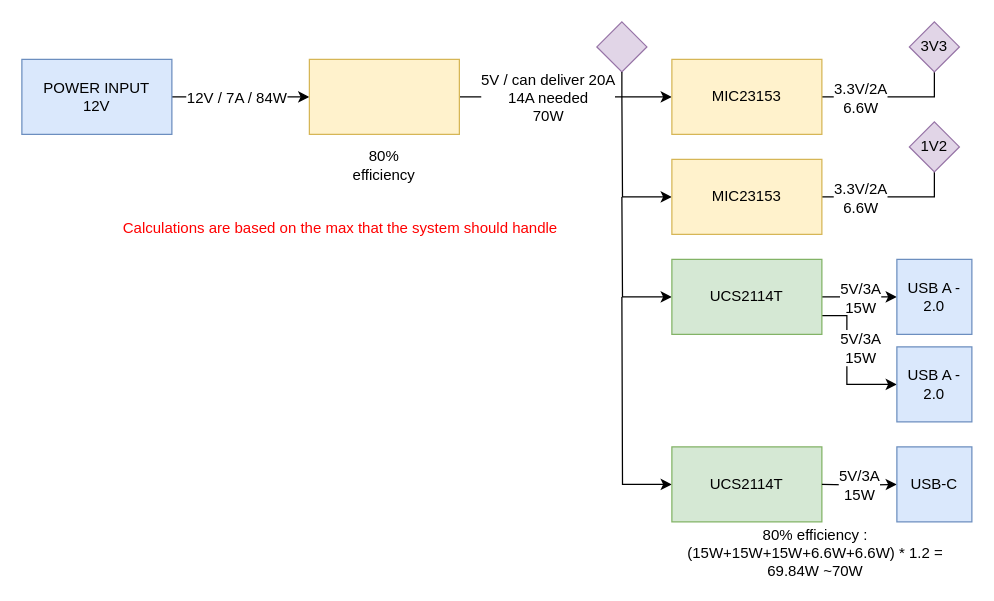
This 994x601 diagram has some shape labels left out. The centre of each missing label's shape, as x and y in pixels:
"5V" belongs at point (621, 46).
"MCP19035" belongs at point (383, 96).
